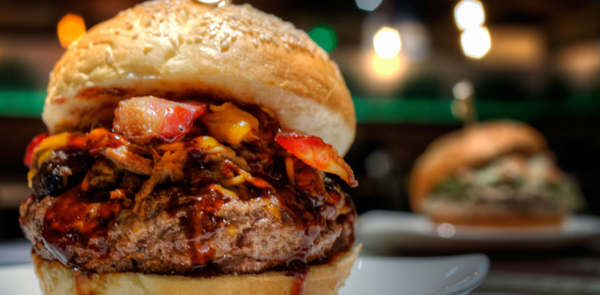soup: (15, 0, 363, 290), (408, 118, 588, 229)
